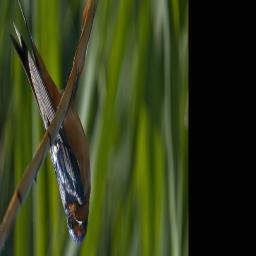Swallow: (8, 0, 91, 245)
